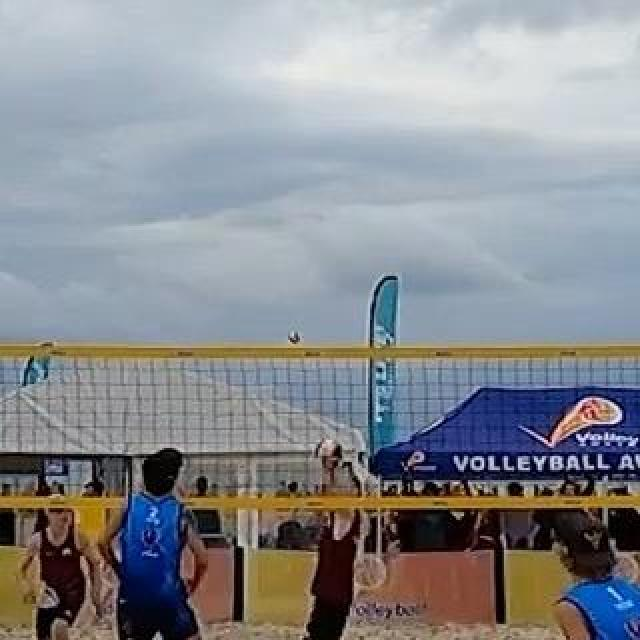volleyball: (313, 438, 345, 470), (288, 332, 300, 344)
